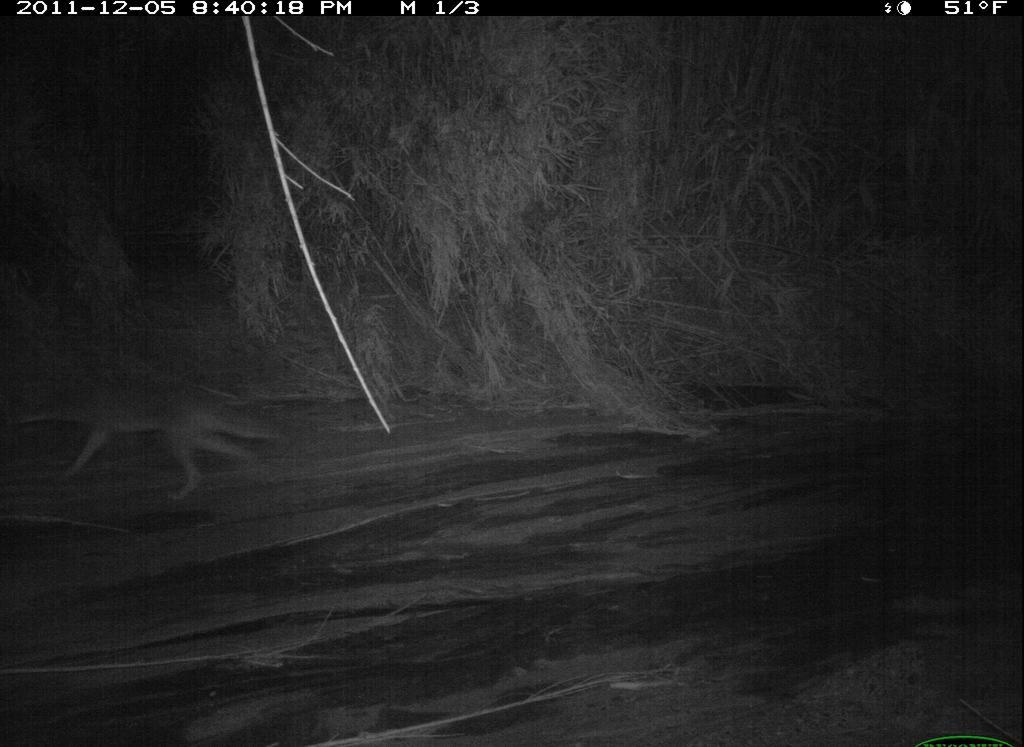coyote: (11, 353, 313, 514)
